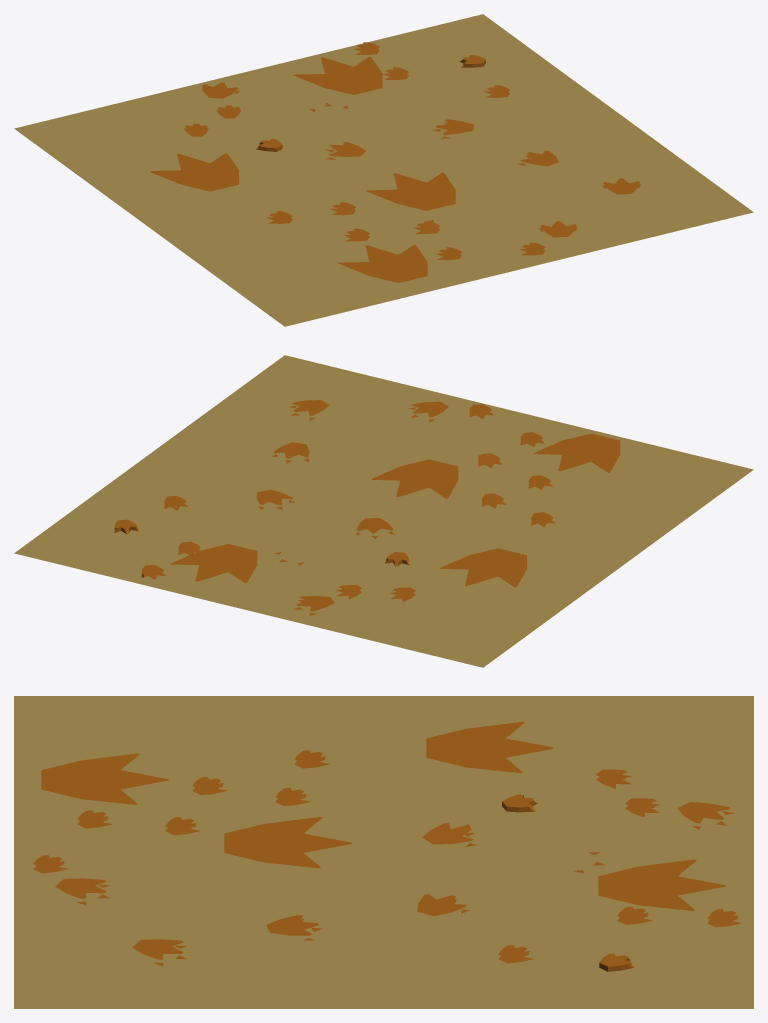
File: pathjoined.obj
The picture shows the model from 3 angles, top to bottom: view 1: azimuth 30°, elevation 25°; view 2: azimuth 150°, elevation 25°; view 3: azimuth 270°, elevation 25°; orthographic projection. The views are drawn at different scales.
Parts seen in each view (by area): view 1: sand_Plane, tracks_Cube.001; view 2: sand_Plane, tracks_Cube.001; view 3: sand_Plane, tracks_Cube.001.
Boxes of the visible parts, x1,y1,x2,y2 form: sand_Plane: (14,14,753,326); tracks_Cube.001: (150,42,640,282); sand_Plane: (14,355,753,667); tracks_Cube.001: (114,400,620,615); sand_Plane: (14,696,753,1008); tracks_Cube.001: (33,721,740,971).
Size of the model in its own units: 16.17 by 0.2913 by 16.17.
